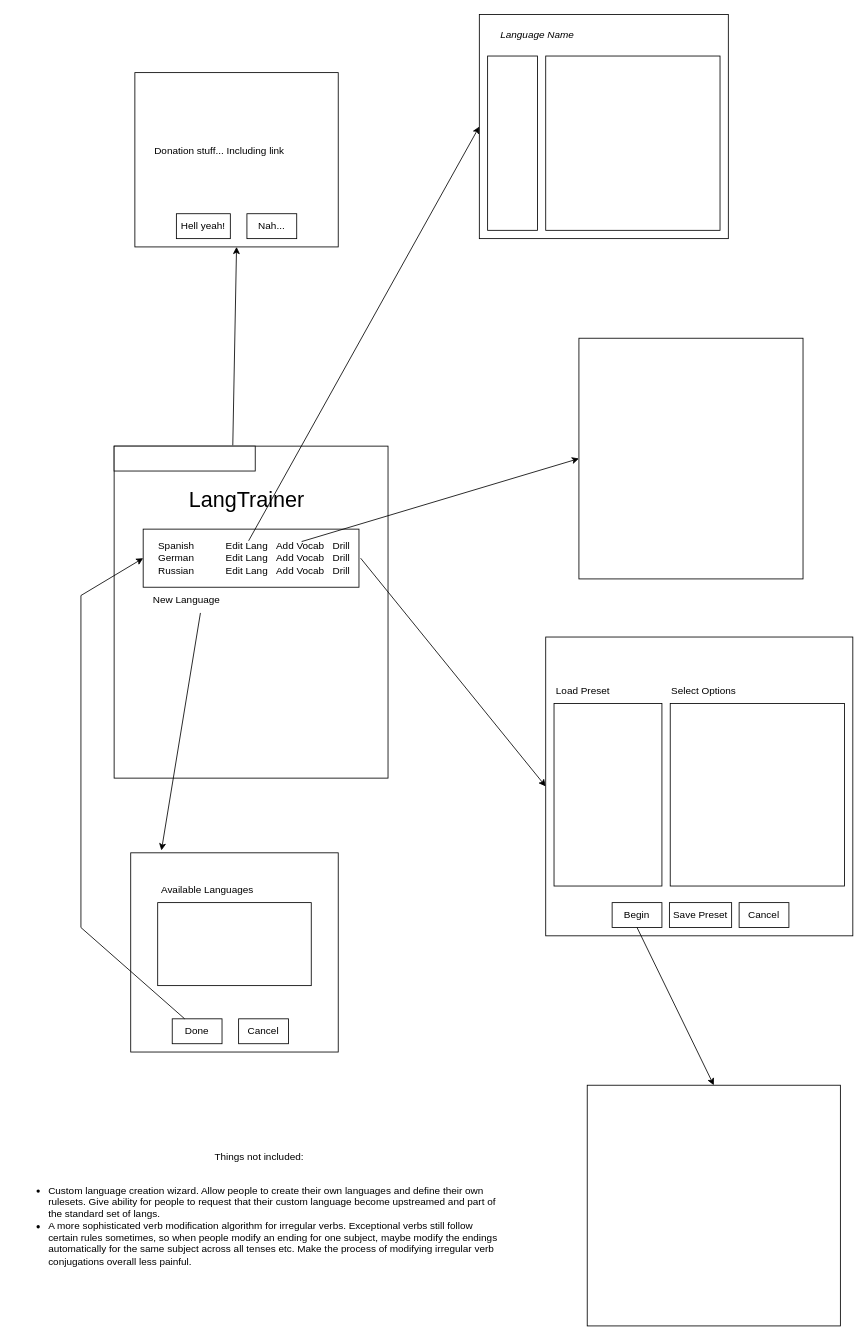
Image size: 867x1340. Some labels were removed from this diagram. The box of each missing label's shape, as (x1, y1, x2, y2) in pixels:
File Options About Donate!: (113, 445, 255, 471)
None preset_1 verbs_only nouns_only: (553, 703, 662, 886)
Spanish Italian French Japanese Russian Polish: (157, 902, 311, 986)
